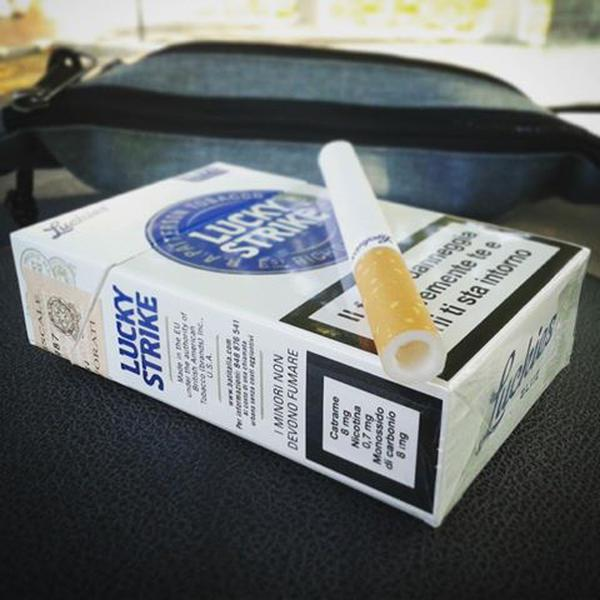lucky_strike_blue: (35, 176, 472, 334)
